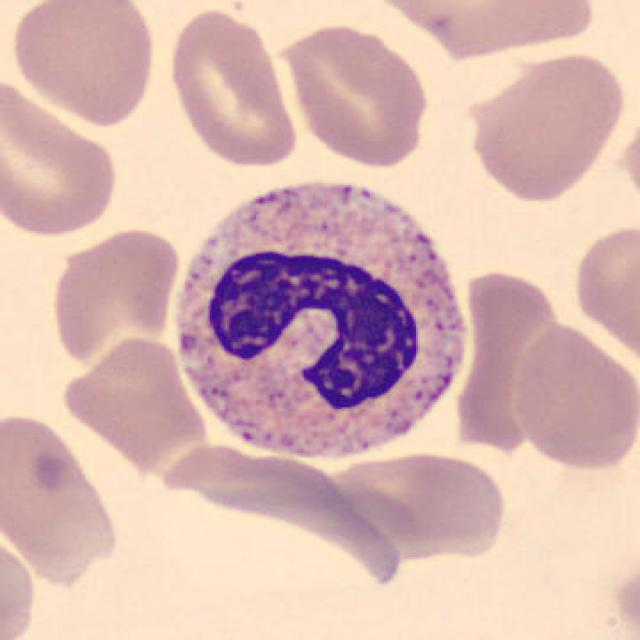Neutrophil: (164, 160, 480, 480)
RBC: (142, 439, 416, 586), (462, 42, 630, 206), (272, 18, 434, 171), (0, 405, 124, 588), (329, 444, 514, 566), (454, 261, 569, 456), (164, 4, 298, 171), (0, 70, 123, 242), (508, 317, 638, 476), (46, 222, 185, 370), (57, 333, 210, 464), (5, 0, 160, 129), (361, 0, 601, 60), (569, 217, 640, 368), (0, 529, 41, 640), (618, 107, 640, 220)
